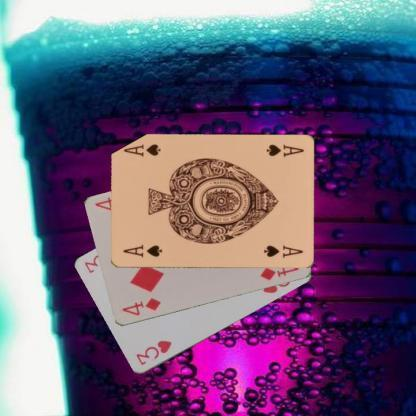3h: (132, 338, 174, 367)
4d: (119, 295, 162, 317)
As: (120, 243, 163, 259), (263, 142, 306, 158)
